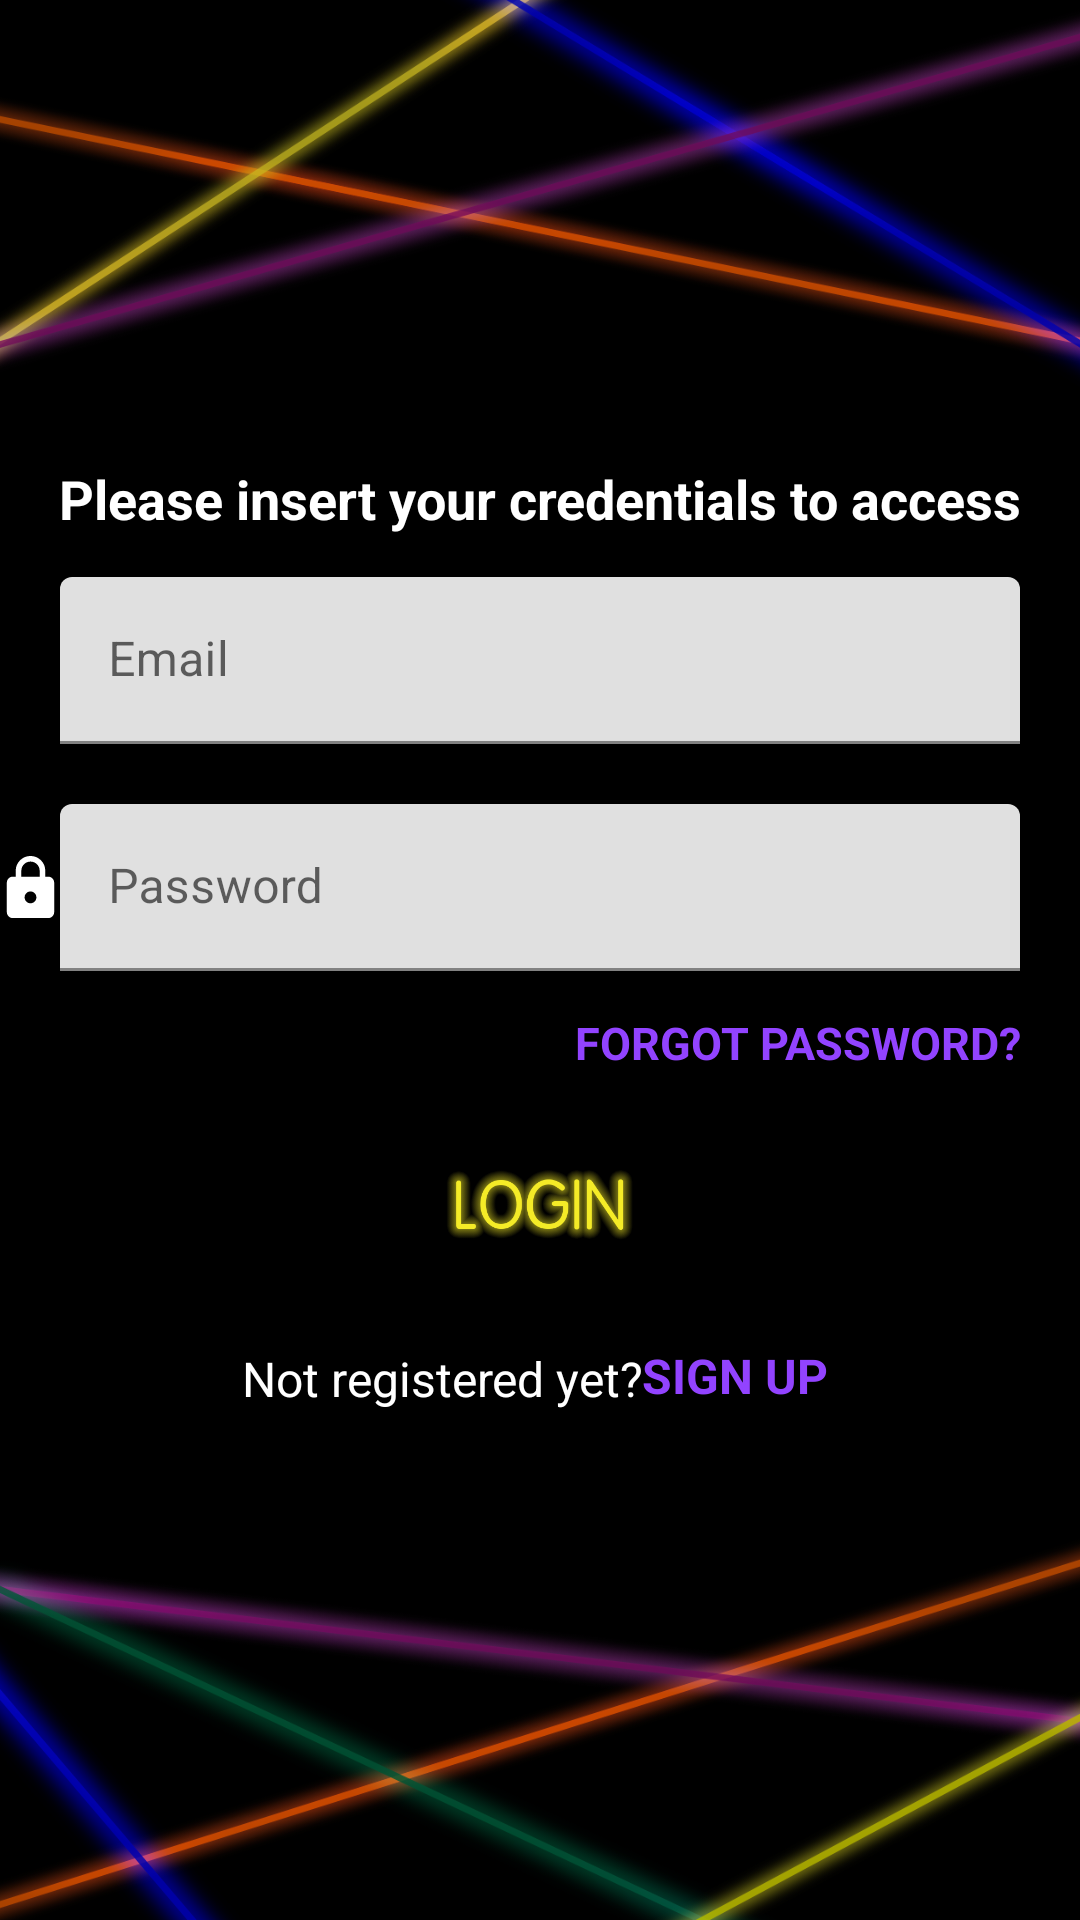

Icons on this 1080w x 1920h Android screen, each with the point to tap as (x=x, y=y):
lock: (x=33, y=888)
